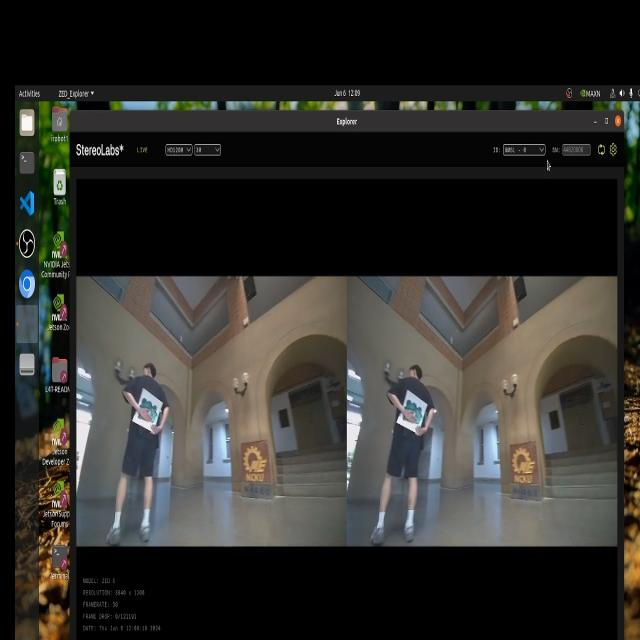green: (404, 394, 431, 429), (140, 398, 159, 430)
